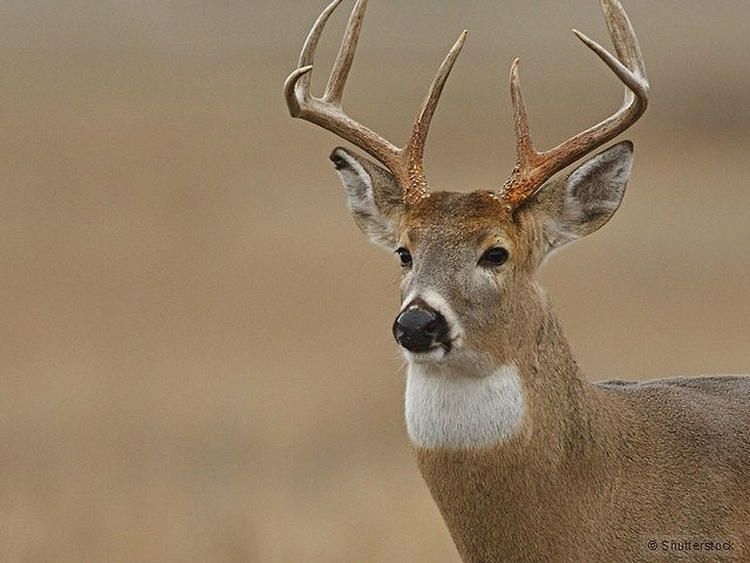Deer: (274, 1, 746, 563)
